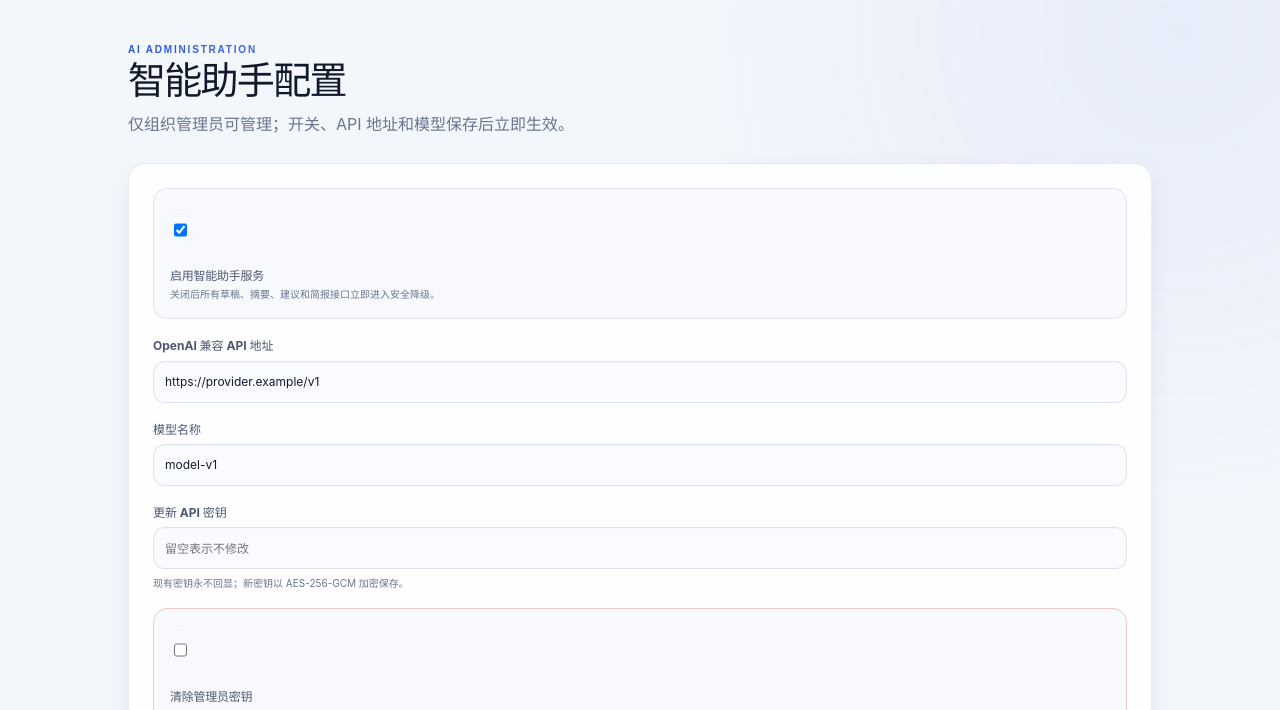
Test: large mocked workflow views › lets an administrator update AI service settings without rendering an existing key
Expected: the password field labelled "更新 API 密钥 现有密钥永不回显；新密钥以 AES-256-GCM 加密保存。" is empty, [153,527,1127,569]
Click the checkbox labelled "启用智能助手服务 关闭后所有草稿、摘要、建议和简报接口立即进入安全降级。" at (180, 230), box [174,209,187,251]
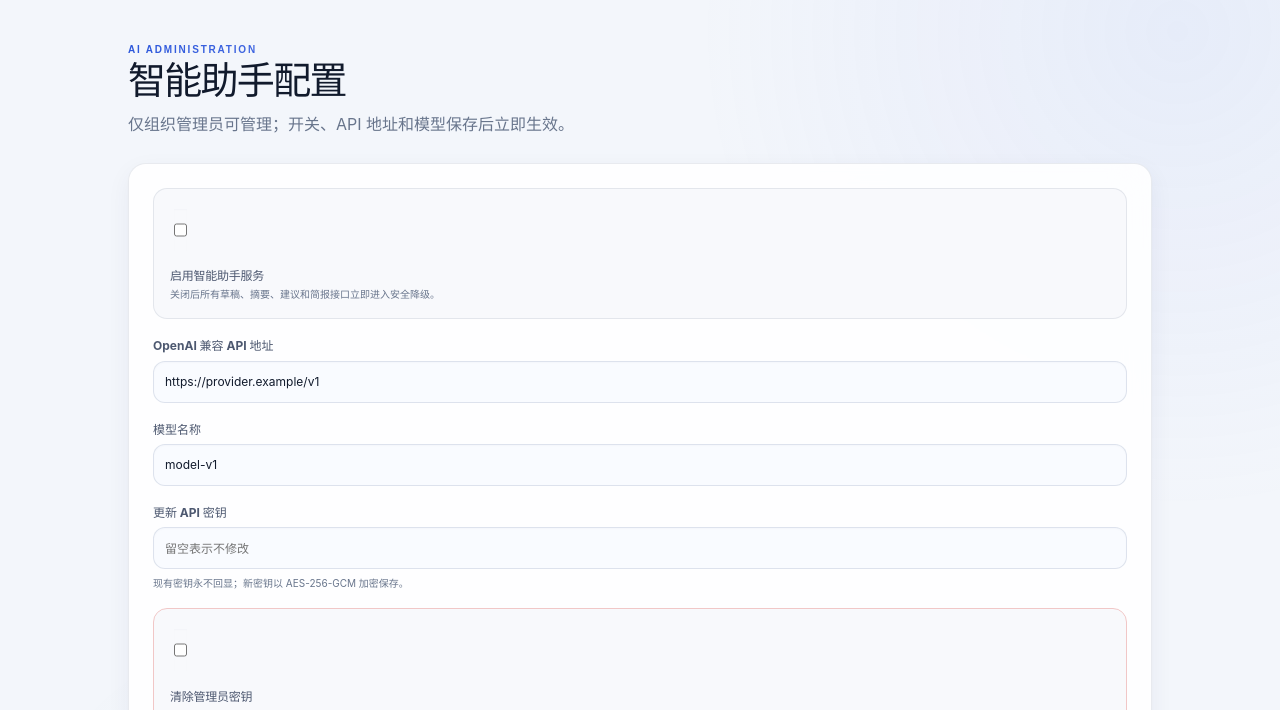
Replace the text in the field with placeholder "model-name" with "model-v2" at (640, 465), box [153,444,1127,486]
(page scrolled)
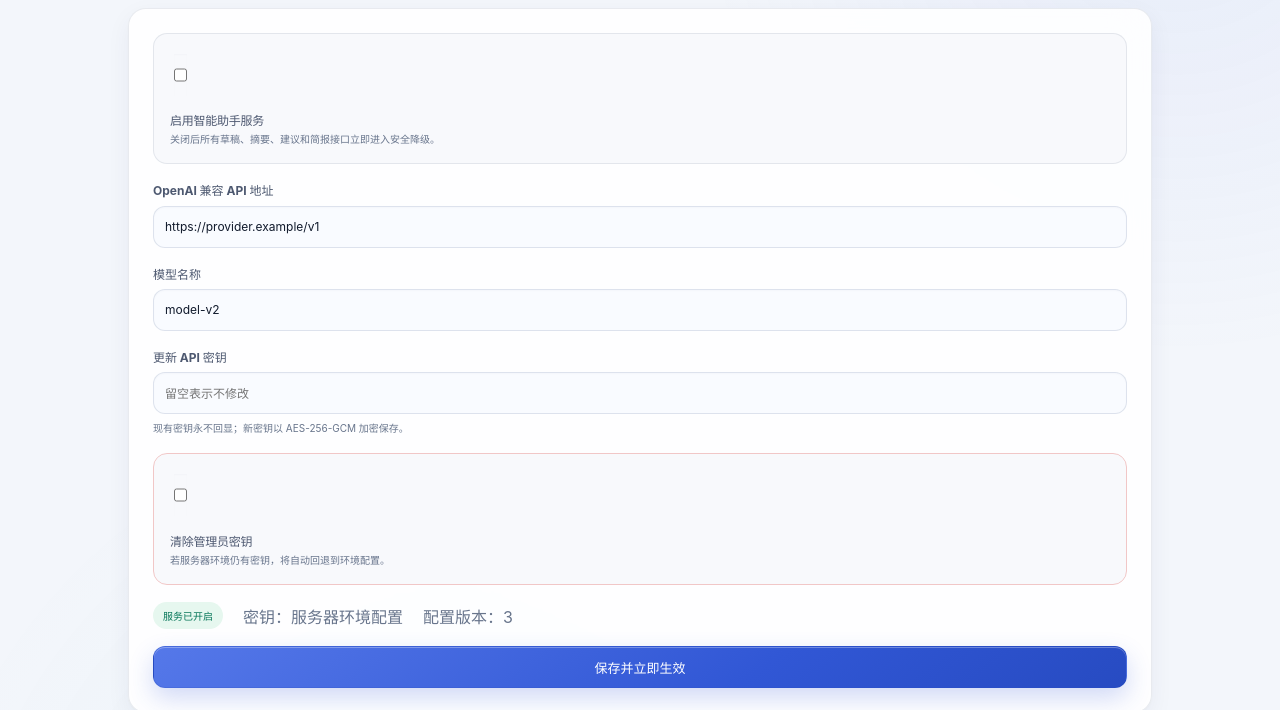
Submit the form
(page scrolled)
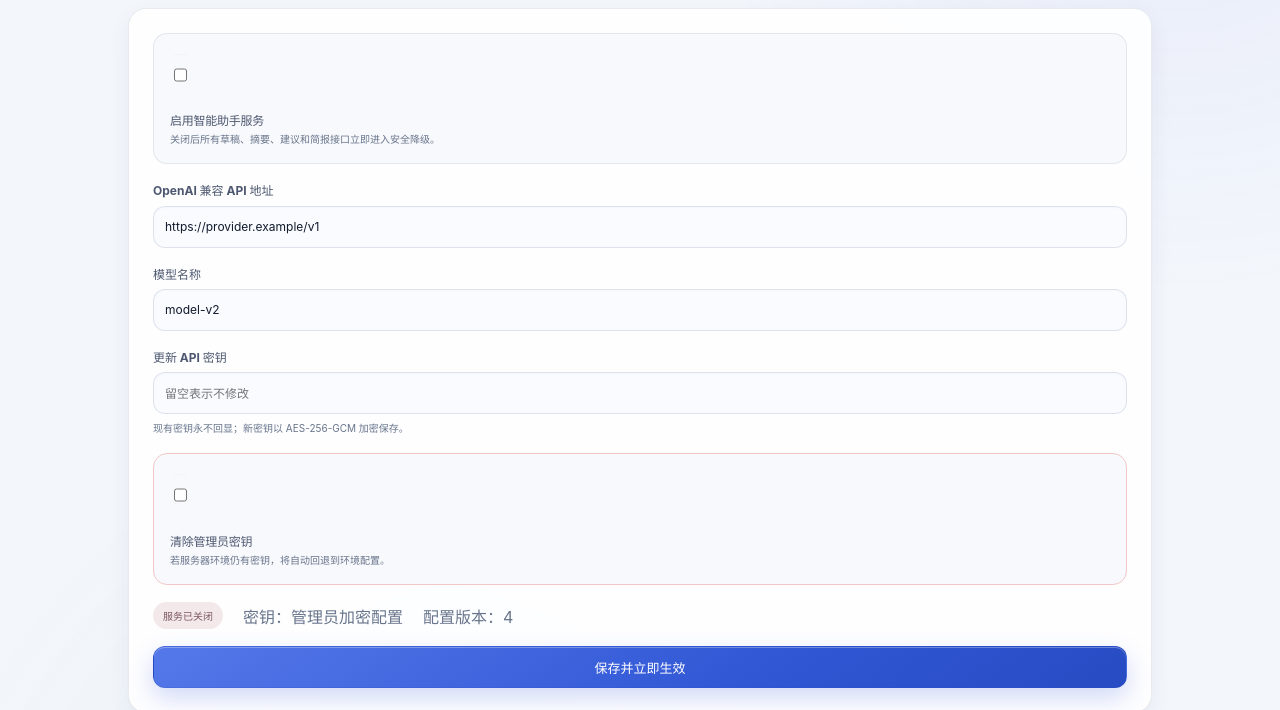
Now the text "管理员加密配置" is shown, box [243,606,403,626]
